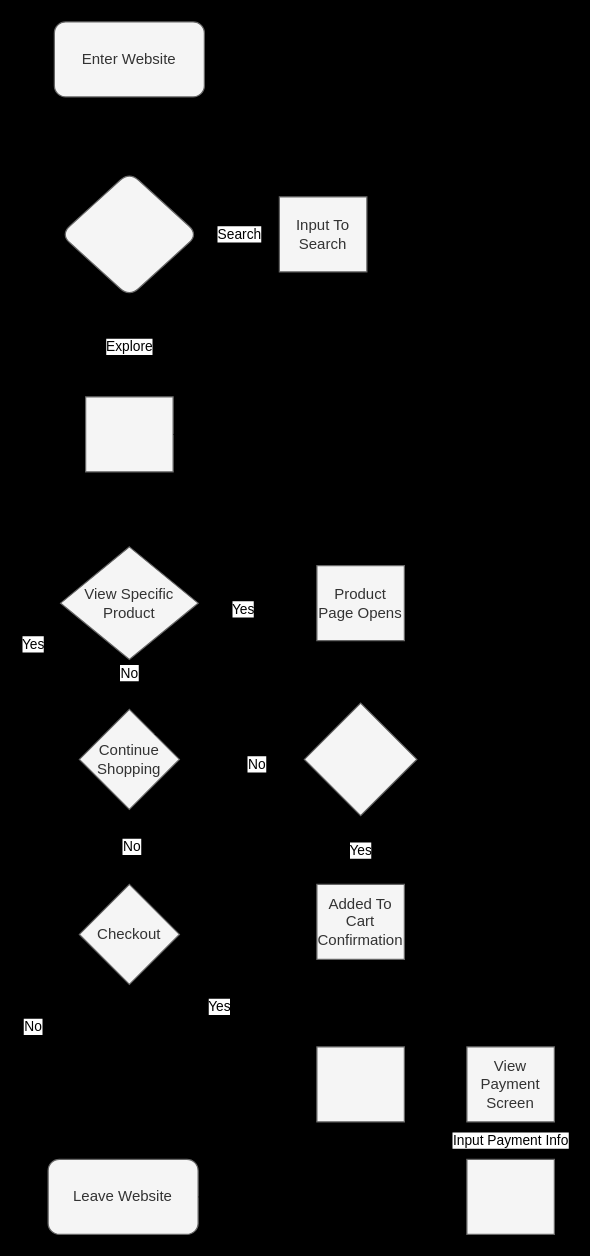
Some shapes in this 590 by 1256 pixel diagram are drawn without their labels. The shapes that lost their labels are listed below. From the top down, each one's centre as x and y in pixels, then its label:
(x=128, y=234): Search for or explore Product
(x=128, y=434): Look Over Products
(x=360, y=759): Add To Cart
(x=360, y=1084): View Cart Screen
(x=510, y=1196): Order Confirmation And Email
